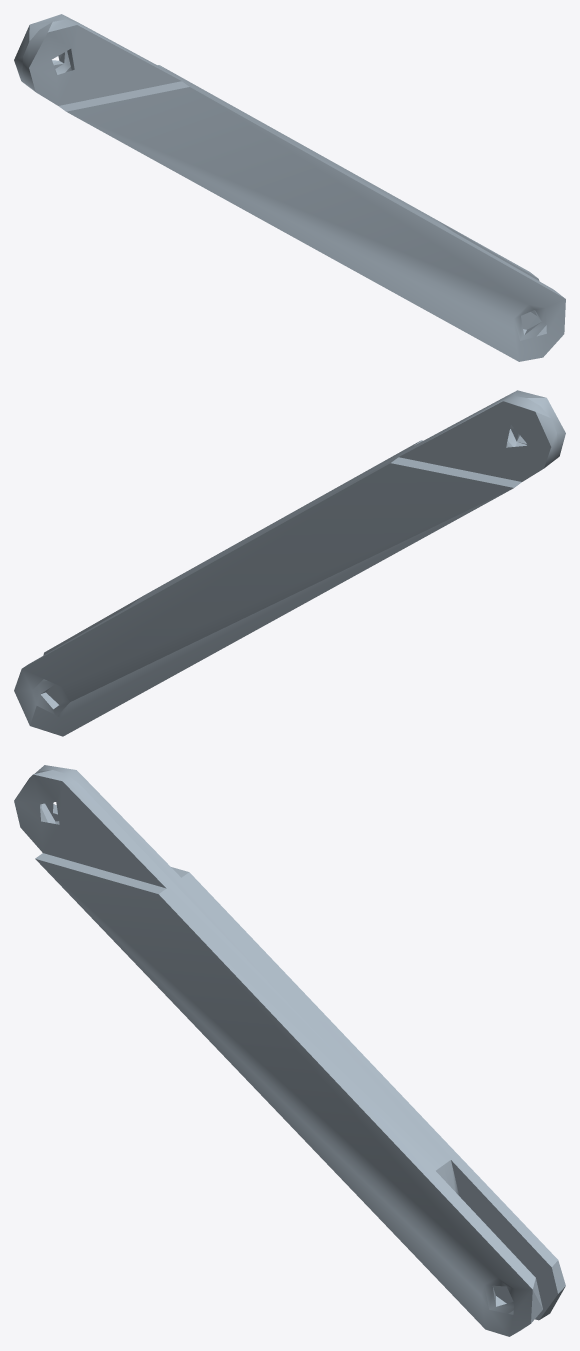
The picture shows the model from 3 angles, top to bottom: view 1: azimuth 30°, elevation 25°; view 2: azimuth 150°, elevation 25°; view 3: azimuth 330°, elevation 25°; orthographic projection.
Parts seen in each view (by area): view 1: tmp_export_fl_link3; view 2: tmp_export_fl_link3; view 3: tmp_export_fl_link3.
Boxes of the visible parts, x1,y1,x2,y2 form: tmp_export_fl_link3: [14, 14, 565, 361]; tmp_export_fl_link3: [14, 390, 565, 736]; tmp_export_fl_link3: [14, 765, 565, 1336].
Bounding box in the file's own units: 0.1197 × 0.0125 × 0.0945.
